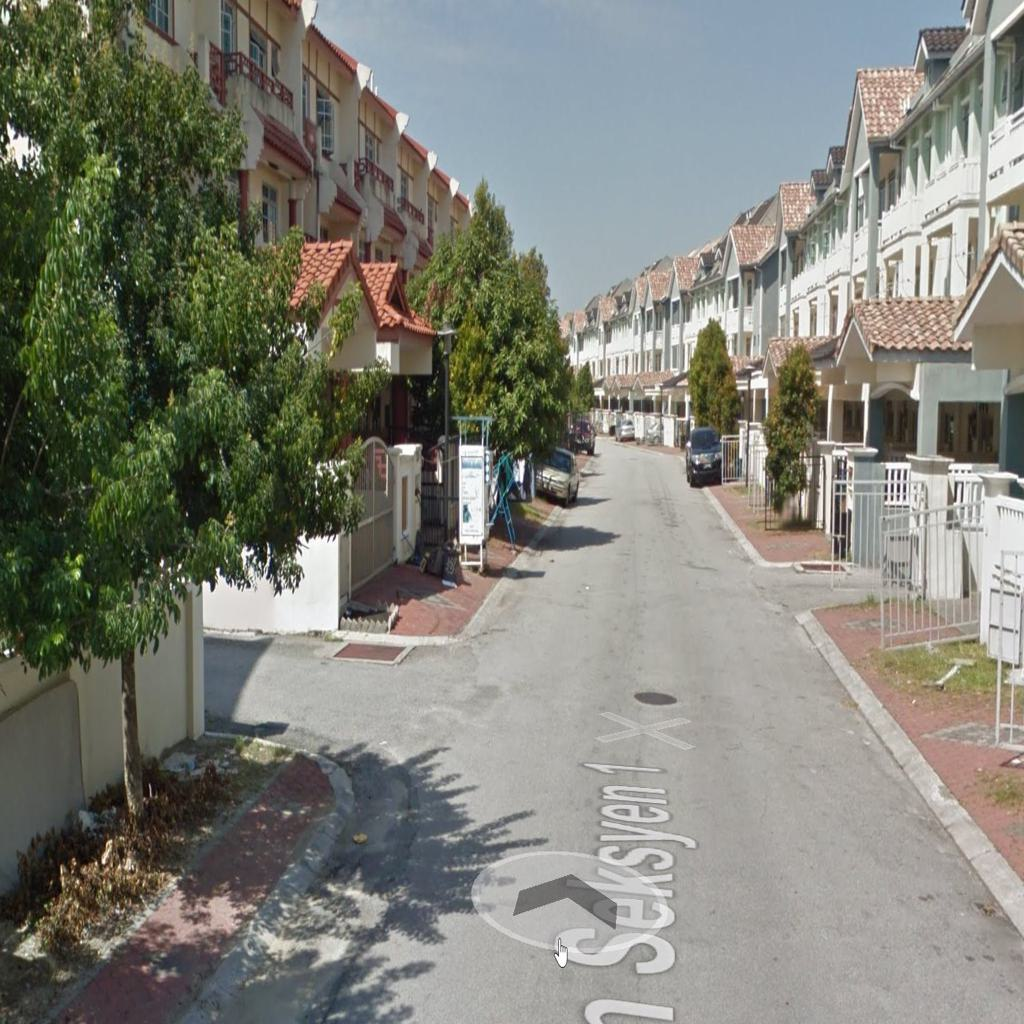Junction: (211, 609, 488, 828), (743, 532, 902, 633)
